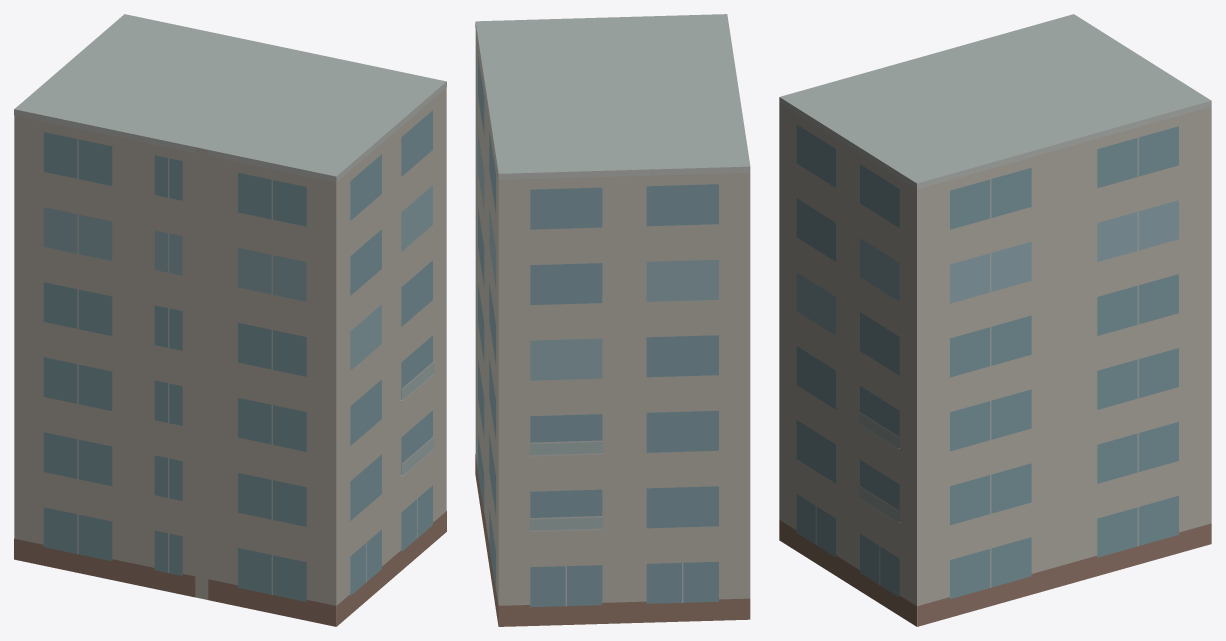
The model's file is survey-upis-32983414.glb.
The picture shows the model from 3 angles, left to right: view 1: azimuth 30°, elevation 25°; view 2: azimuth 150°, elevation 25°; view 3: azimuth 270°, elevation 25°; orthographic projection. The views are drawn at different scales.
Visible parts, largest first — view 1: survey-upis-32983414.tmp; view 2: survey-upis-32983414.tmp; view 3: survey-upis-32983414.tmp.
Part boxes in pixels (<box>): survey-upis-32983414.tmp: <box>14,14,446,626</box>; survey-upis-32983414.tmp: <box>475,14,750,626</box>; survey-upis-32983414.tmp: <box>779,14,1211,626</box>.
Size of the model in its own units: 15.02 by 18.3 by 16.18.
